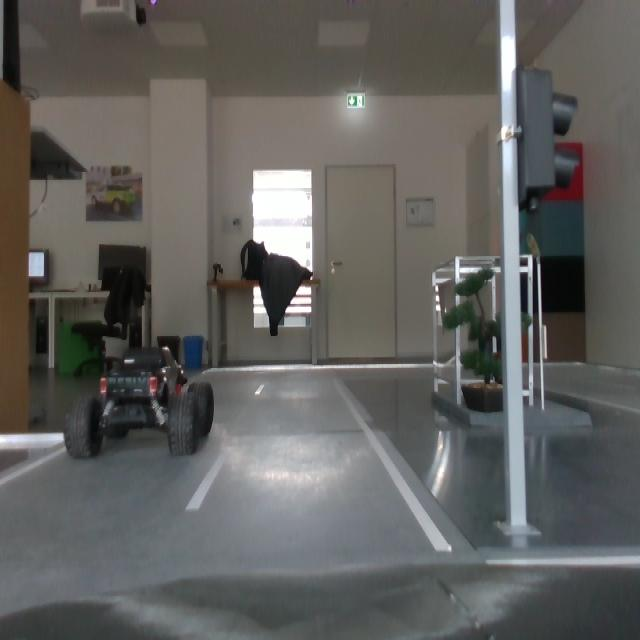car: (68, 345, 218, 460)
potted plant: (443, 269, 535, 387)
traffic light: (518, 69, 583, 203)
